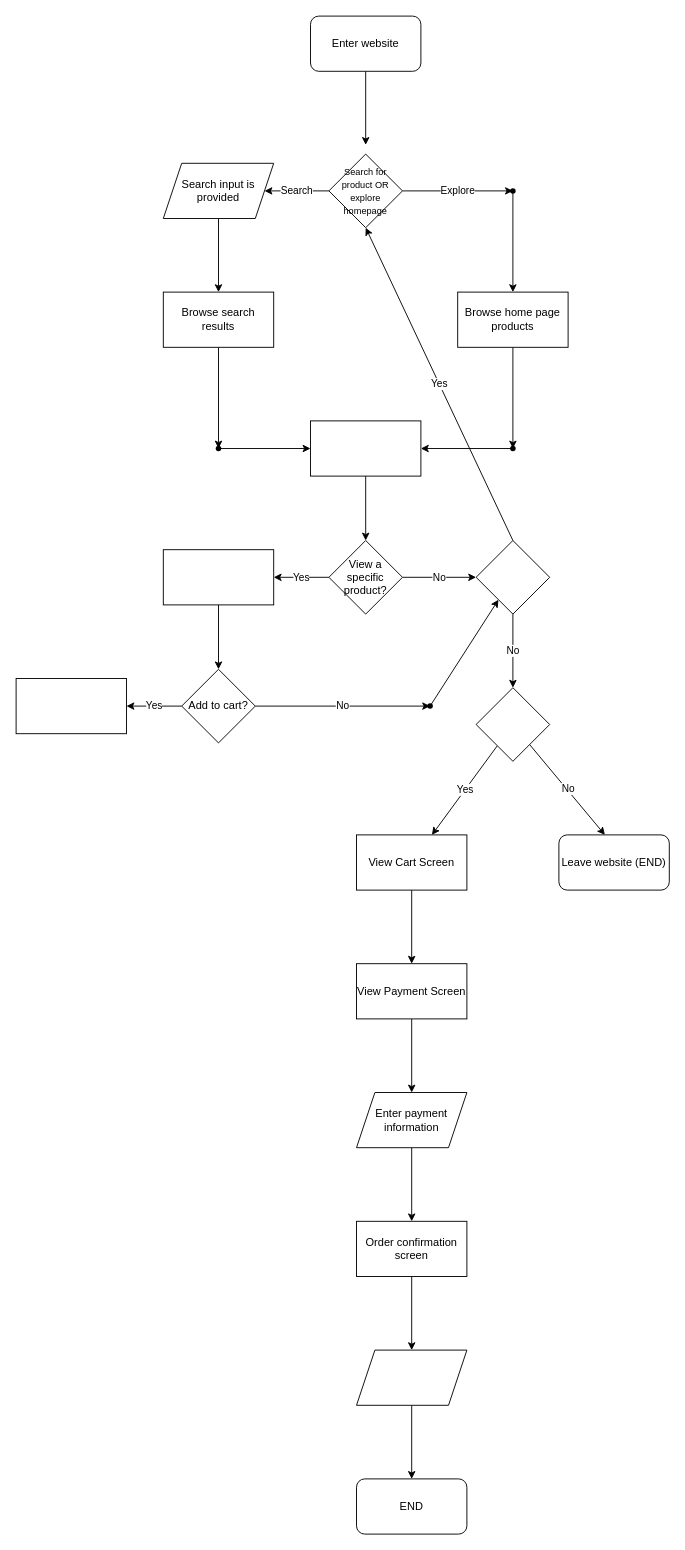
Image size: 685x1550. Some labels were removed from this diagram. Each missing label, with the centre of its shape:
Added to cart confirmation: point (70, 706)
Continue shopping?: point (512, 577)
Email sent: point (411, 1377)
Looking over products: point (365, 448)
Proceed to checkout?: point (512, 724)
Product page opens: point (218, 577)
